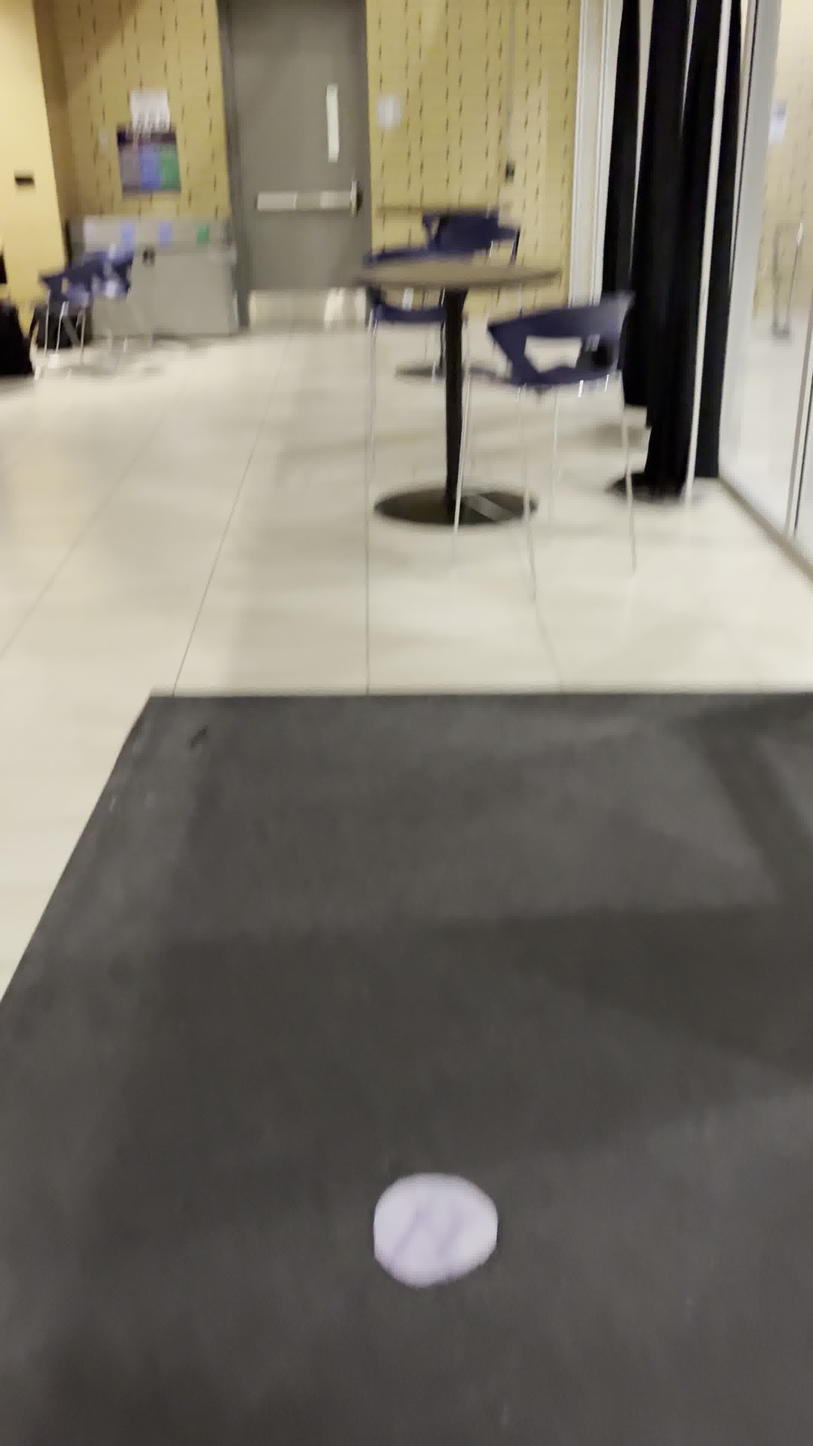Target: (370, 1168, 501, 1294)
